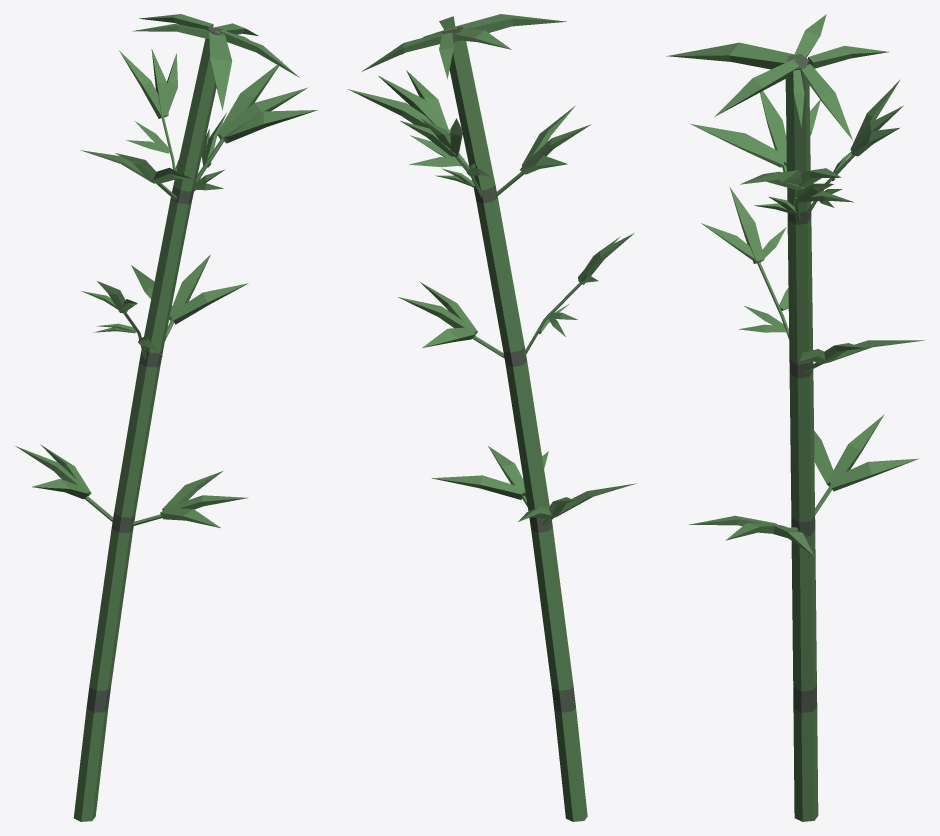
The picture shows the model from 3 angles, left to right: view 1: azimuth 30°, elevation 25°; view 2: azimuth 150°, elevation 25°; view 3: azimuth 270°, elevation 25°; orthographic projection. The views are drawn at different scales.
Parts seen in each view (by area): view 1: bamboo5; view 2: bamboo5; view 3: bamboo5.
Part boxes in pixels (left/top/right/bottom): bamboo5: left=15, top=14, right=317, bottom=821; bamboo5: left=347, top=14, right=636, bottom=821; bamboo5: left=666, top=14, right=925, bottom=821.
Bounding box in the file's own units: 81.02 × 219 × 61.57.
